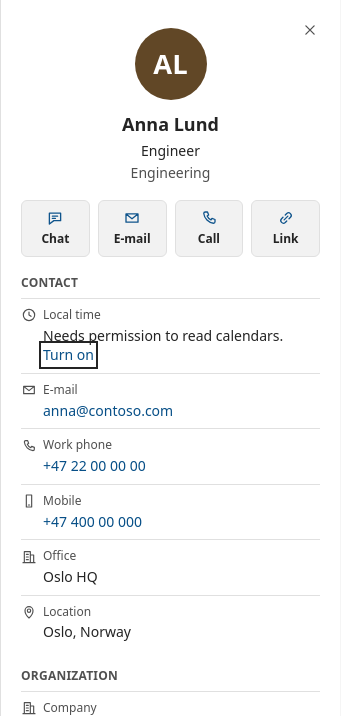
Test: EmployeeDetailsPanel › with the person's local time and working hours › offers Turn on until someone consents to reading calendars, then shows the time and moves the focus to it
The image size is (341, 716).
Click the button "Turn on".
click(68, 355)  # box [43, 345, 94, 365]
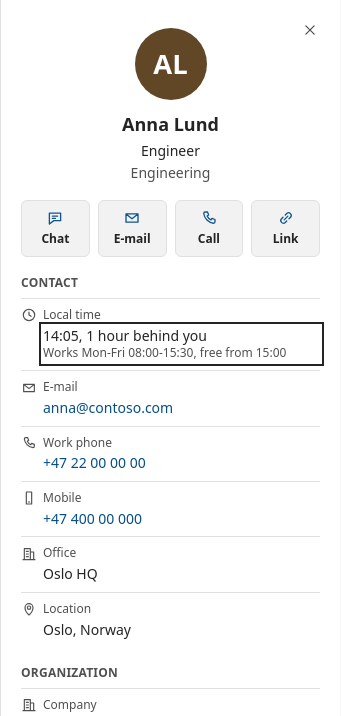
expect the button "Turn on" is gone: met
